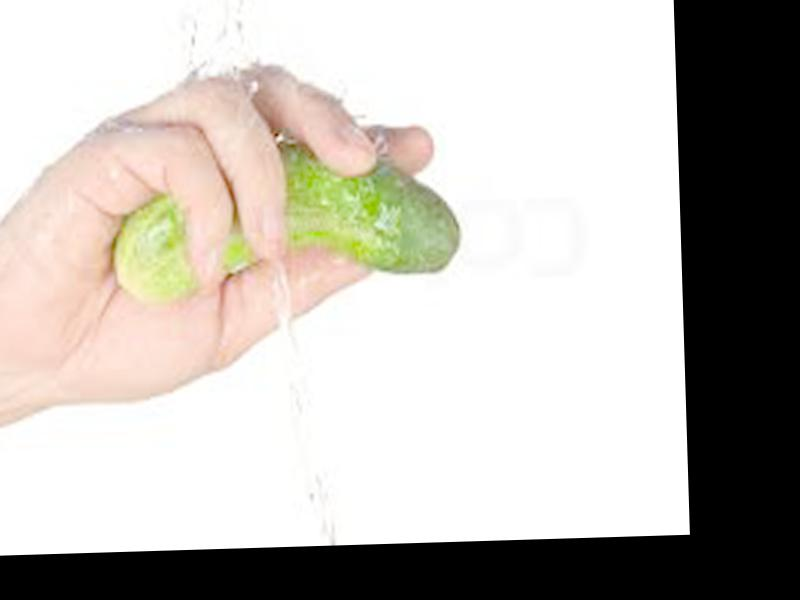Cucumber: (113, 147, 463, 299)
